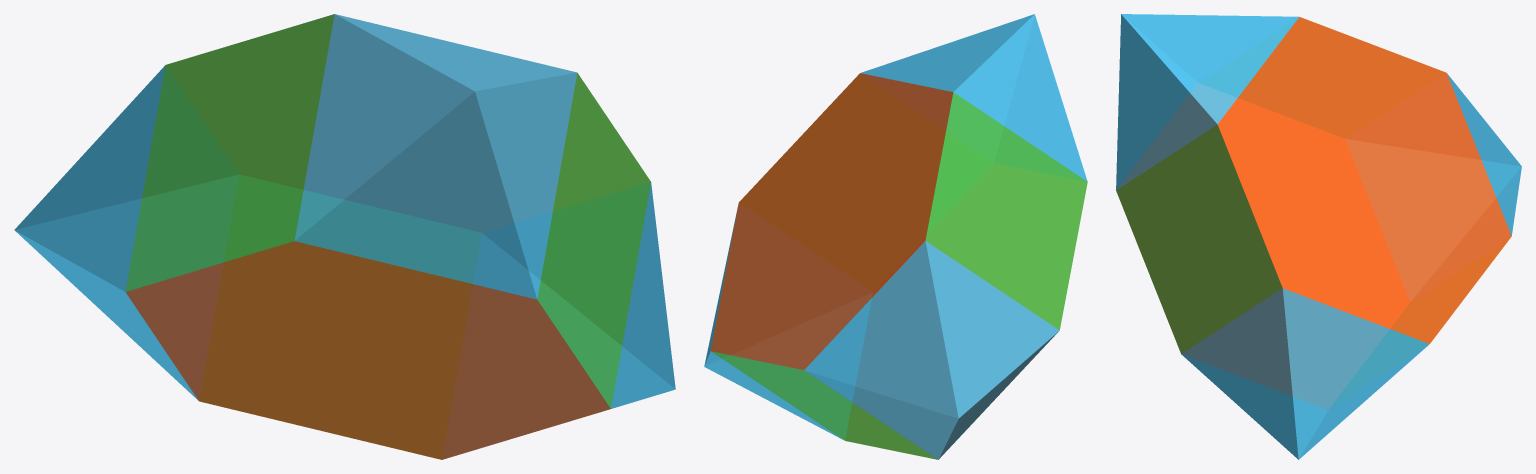
The model's file is j57_triaugmented_hexagonal_prism.obj.
3 views of the same model, side by side, from view 1: azimuth 30°, elevation 25°; view 2: azimuth 150°, elevation 25°; view 3: azimuth 270°, elevation 25° (orthographic). The views are drawn at different scales.
Bounding box in the file's own units: 1.94 × 1.8 × 1.85.
